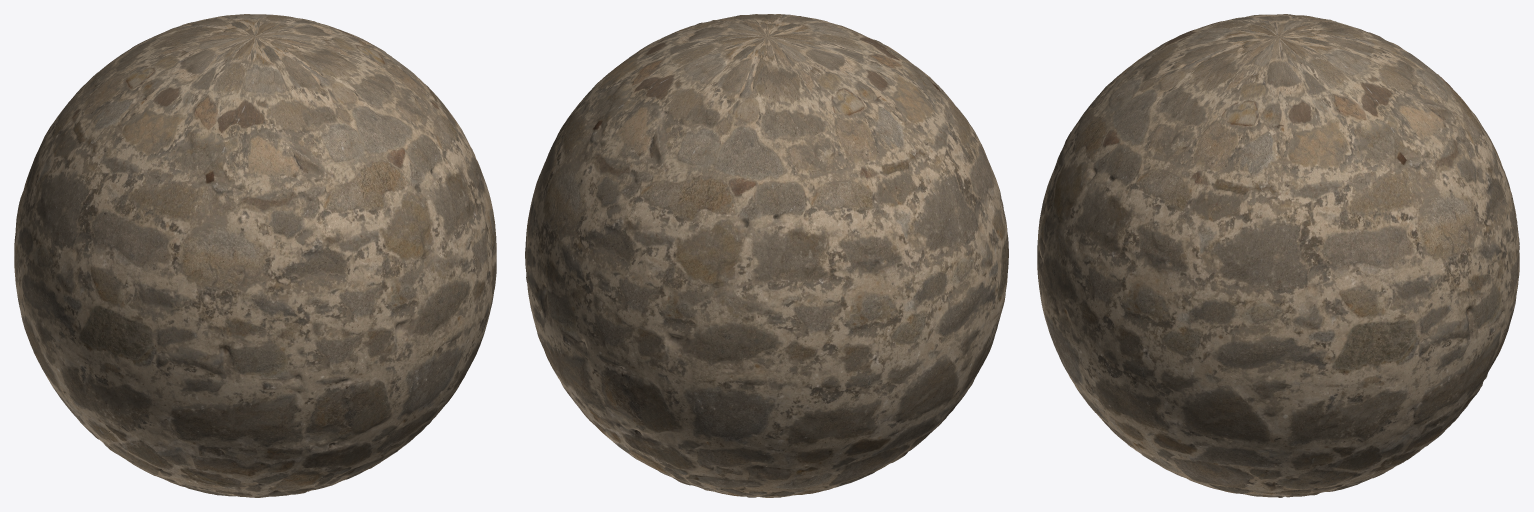
The model's file is old_stone_wall_1k.gltf.
3 views of the same model, side by side, from view 1: azimuth 30°, elevation 25°; view 2: azimuth 150°, elevation 25°; view 3: azimuth 270°, elevation 25° (orthographic).
Visible parts, largest first — view 1: sphere_gltf; view 2: sphere_gltf; view 3: sphere_gltf.
Part boxes in pixels (x1,y1,x2,y2): sphere_gltf: (14,14,496,497); sphere_gltf: (525,14,1008,497); sphere_gltf: (1037,14,1519,497).
Bounding box in the file's own units: 2.01 × 2.01 × 2.01.
Materials: 1 (1 with a texture image).
